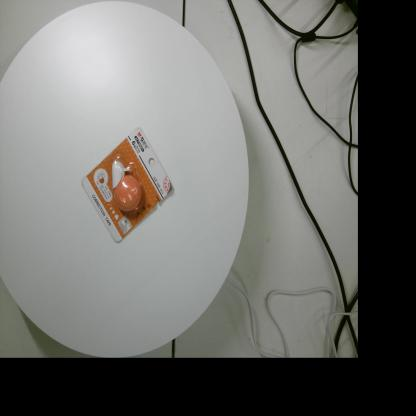Stationery: (82, 127, 174, 243)
